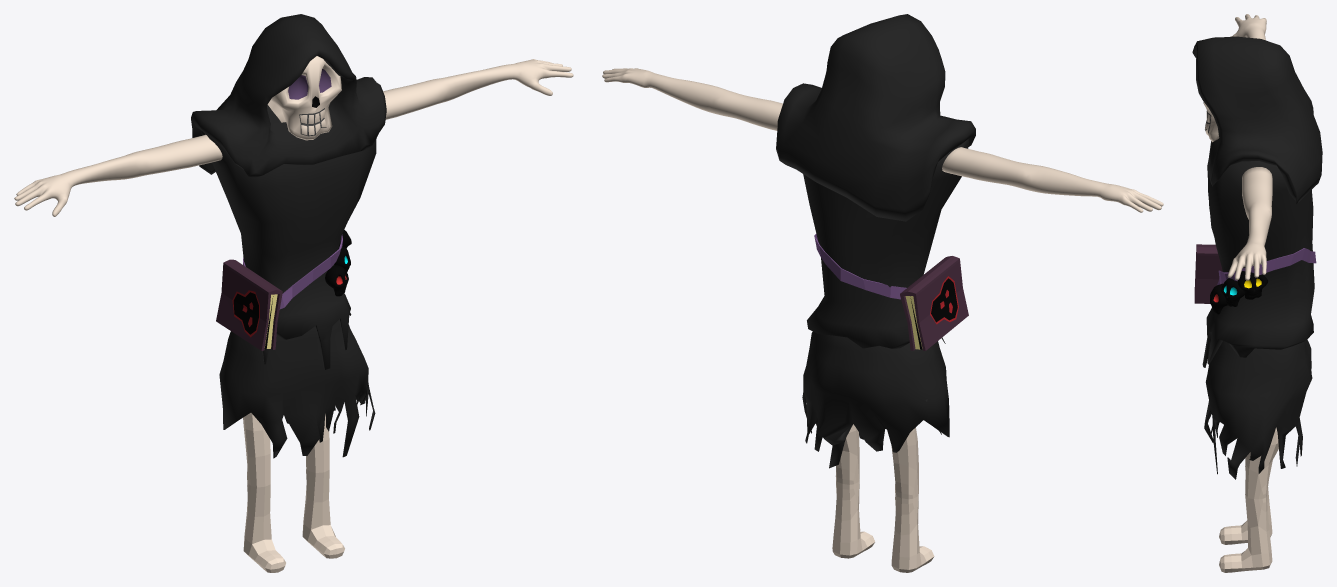
File: nicon.fbx
3 renders of one model, left to right at view 1: azimuth 30°, elevation 25°; view 2: azimuth 150°, elevation 25°; view 3: azimuth 270°, elevation 25°, orthographic. The views are drawn at different scales.
Visible parts, largest first — view 1: Head; view 2: Head; view 3: Head.
Boxes of the visible parts, x1,y1,x2,y2 form: Head: (14,14,573,572); Head: (602,14,1163,572); Head: (1192,14,1322,572).
Size of the model in its own units: 2.94 by 2.7 by 0.6115.
